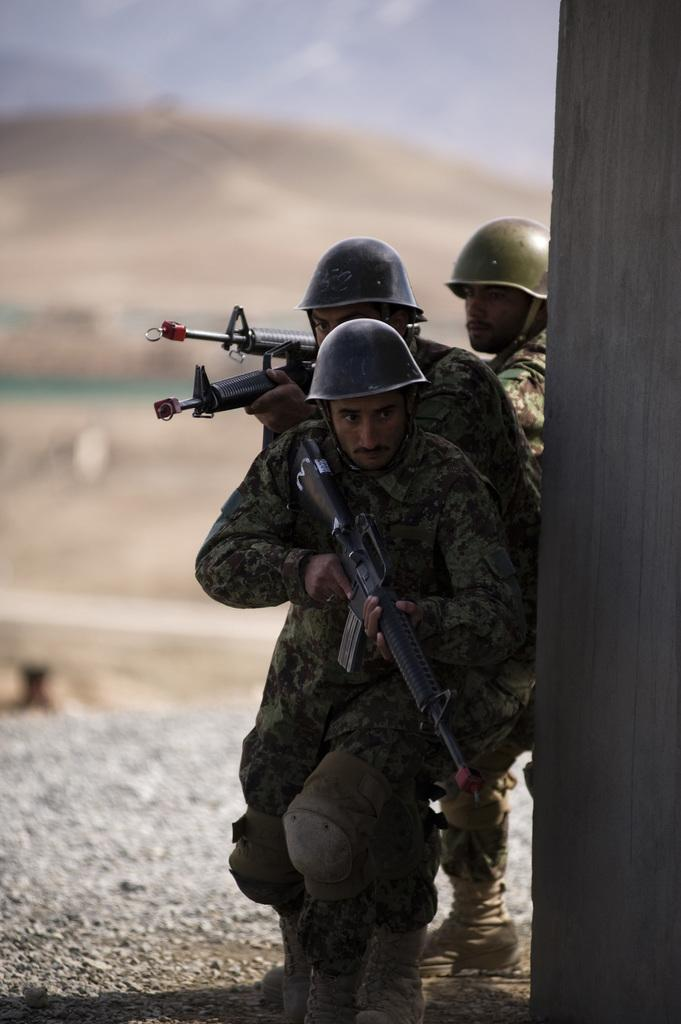Rifle: (285, 438, 466, 772), (145, 303, 497, 366), (149, 336, 319, 420)
